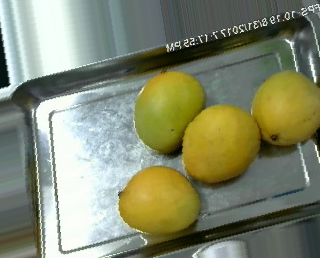Mango: (178, 98, 263, 185), (129, 67, 207, 155), (117, 162, 207, 238), (250, 66, 320, 145)
